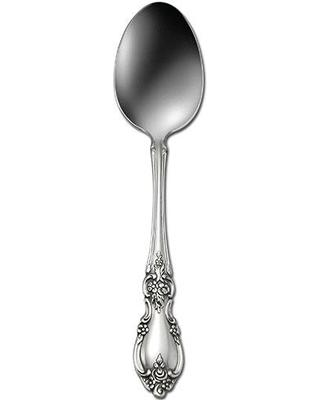Spoon: (113, 1, 206, 399)
